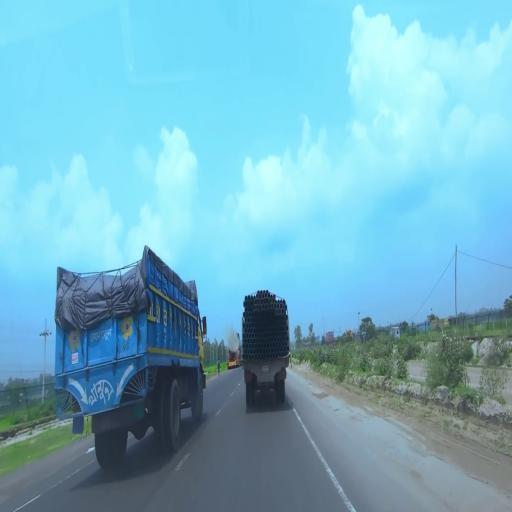truck: (53, 249, 208, 468), (241, 288, 292, 409)
